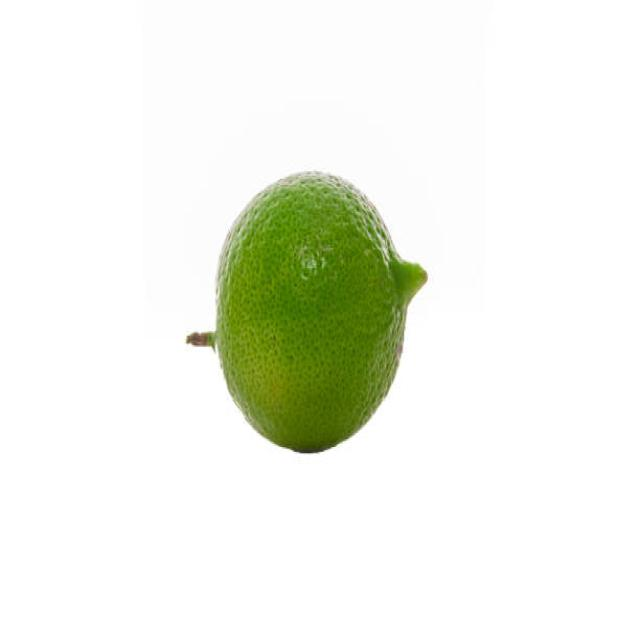Unripe: (211, 168, 429, 454)
